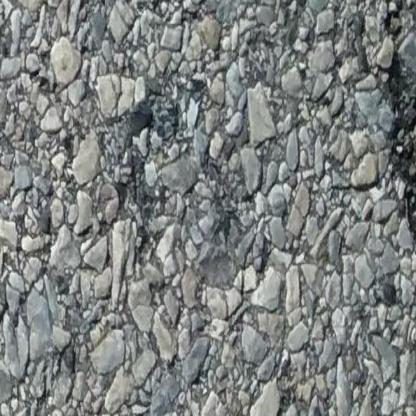Cracks: (379, 0, 416, 255)
